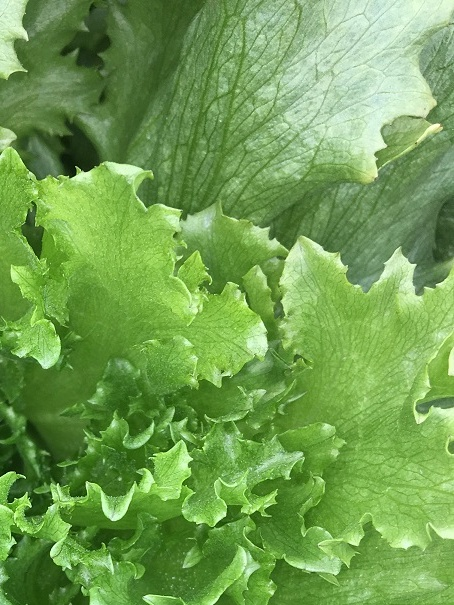tipburn: (364, 170, 383, 186), (429, 120, 446, 136), (410, 137, 424, 151), (316, 539, 330, 552)
